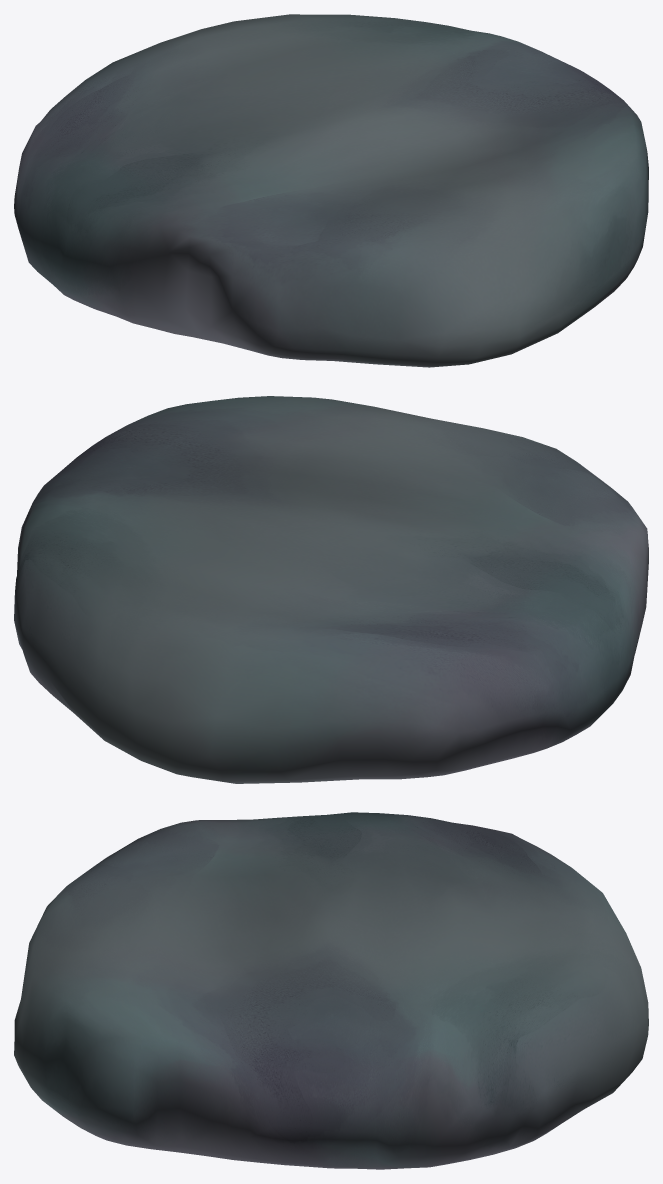
The model's file is RockPlatform.fbx.
3 views of the same model, one above another, from view 1: azimuth 30°, elevation 25°; view 2: azimuth 150°, elevation 25°; view 3: azimuth 270°, elevation 25° (orthographic). The views are drawn at different scales.
Visible parts, largest first — view 1: RockPlatform; view 2: RockPlatform; view 3: RockPlatform.
Part boxes in pixels (<box>): RockPlatform: <box>14,14,648,367</box>; RockPlatform: <box>14,396,648,783</box>; RockPlatform: <box>14,812,648,1169</box>.
Bounding box in the file's own units: 405 × 113 × 398.
Materials: 1 (1 with a texture image).
